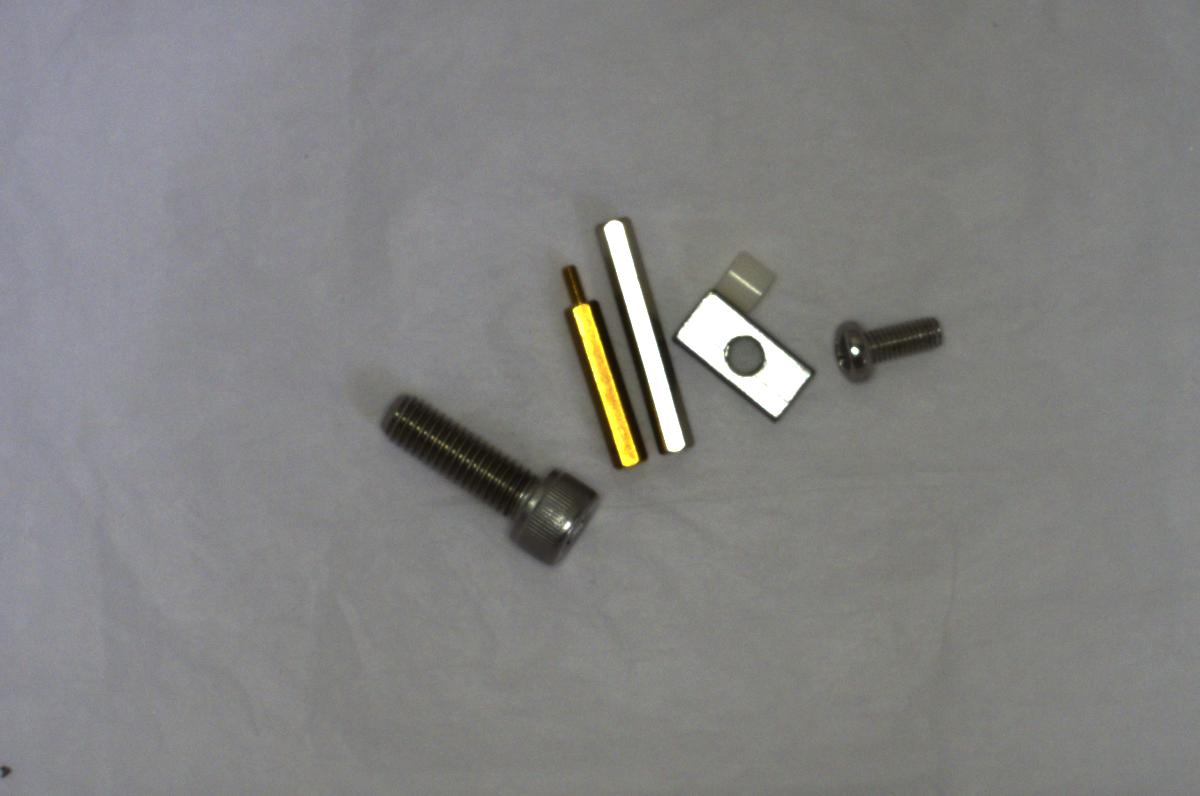Double hexagonal column: (590, 201, 702, 461)
Hexagon pillar: (554, 253, 645, 473)
Hexagon screw: (362, 380, 607, 569)
Plastic cushion pillar: (710, 249, 778, 319)
Rectangular nut: (672, 290, 819, 421)
Round head screw: (830, 306, 953, 389)
